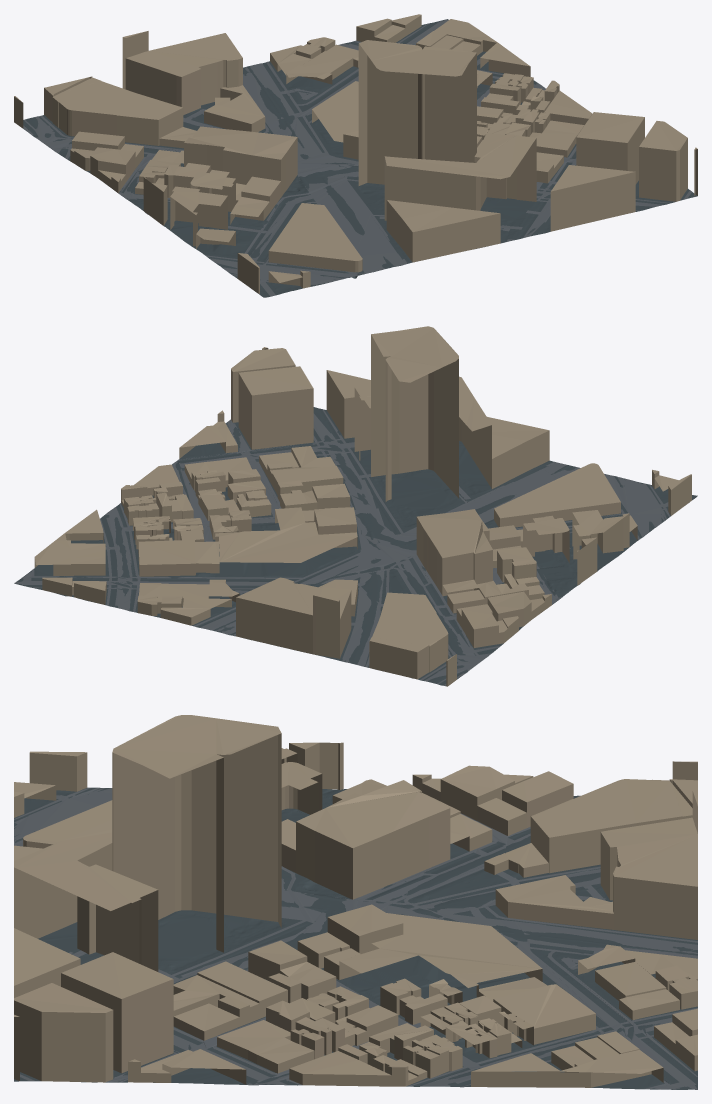
File: epsg26910-1435-10887.lod0.glb
3 views of the same model, one above another, from view 1: azimuth 30°, elevation 25°; view 2: azimuth 150°, elevation 25°; view 3: azimuth 270°, elevation 25° (orthographic). The views are drawn at different scales.
Parts seen in each view (by area): view 1: epsg26910-1435-10887-lod0; view 2: epsg26910-1435-10887-lod0; view 3: epsg26910-1435-10887-lod0.
Boxes of the visible parts, x1=… form: epsg26910-1435-10887-lod0: x1=14, y1=14, x2=697, y2=297; epsg26910-1435-10887-lod0: x1=14, y1=326, x2=697, y2=686; epsg26910-1435-10887-lod0: x1=14, y1=715, x2=697, y2=1089.
Bounding box in the file's own units: 384 × 127 × 384.
